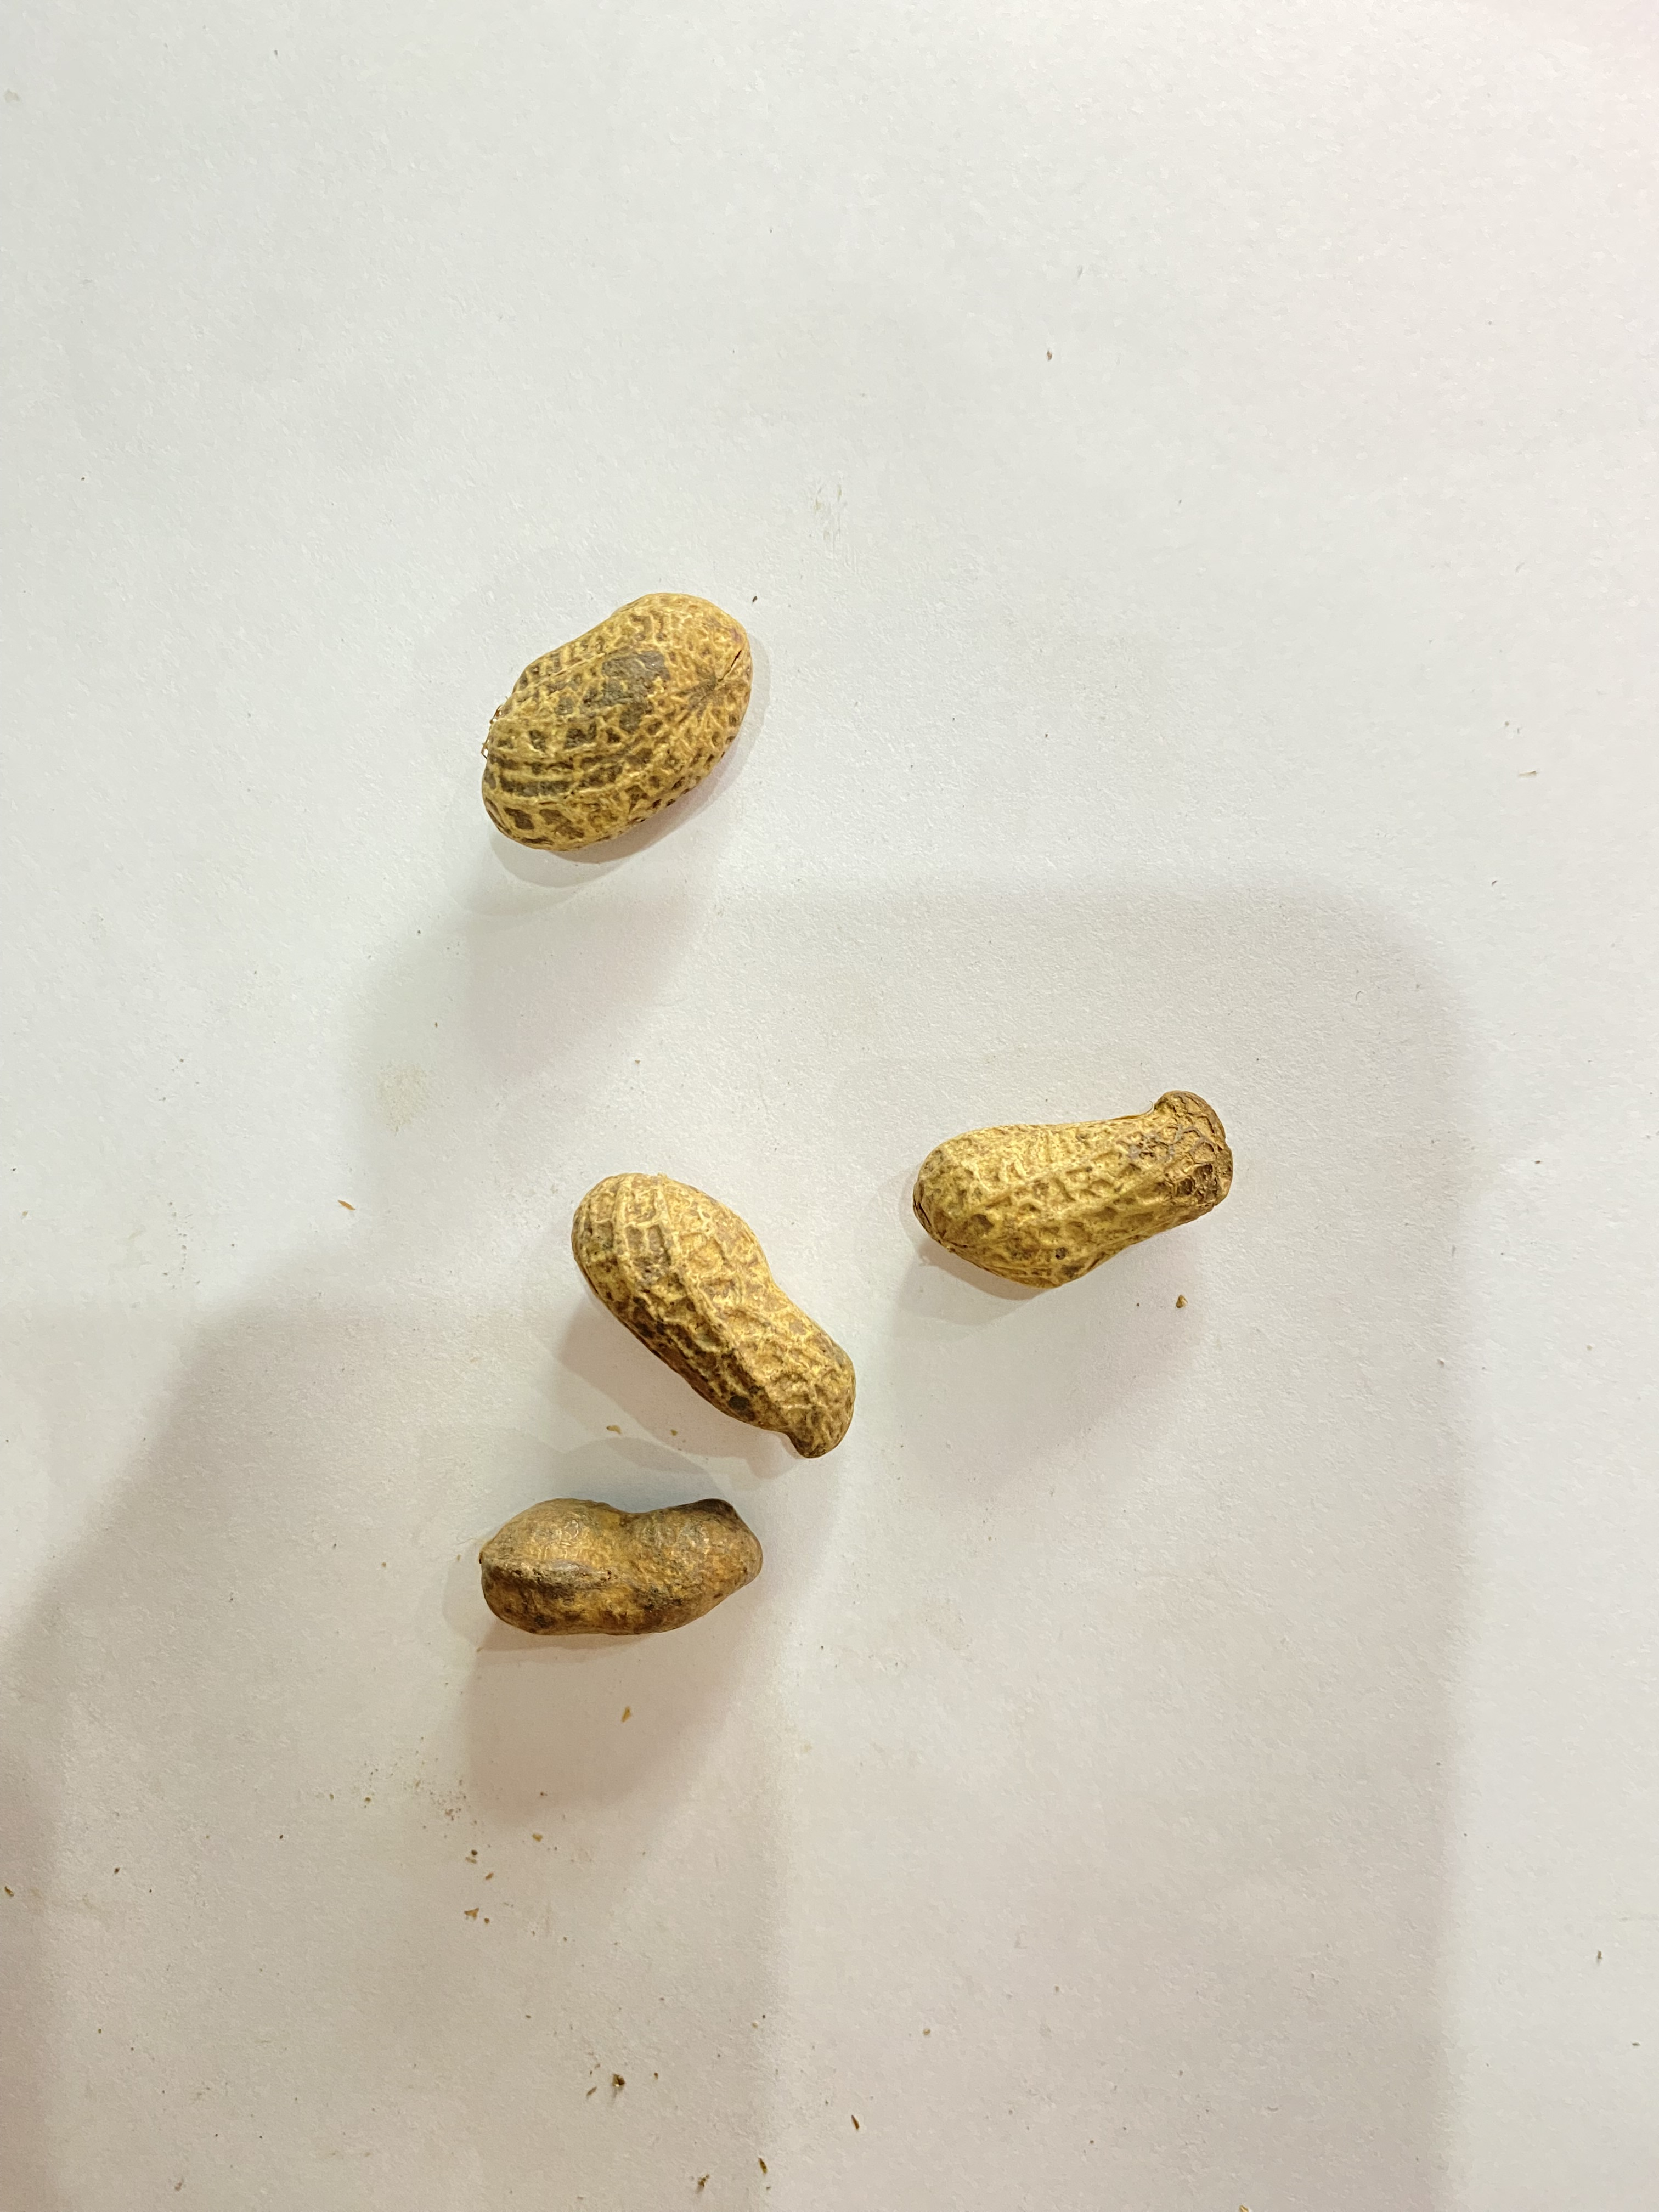kacang1: (385, 503, 838, 862), (885, 1082, 1293, 1294)
kacang2: (530, 1130, 868, 1453), (436, 1475, 842, 1639)
